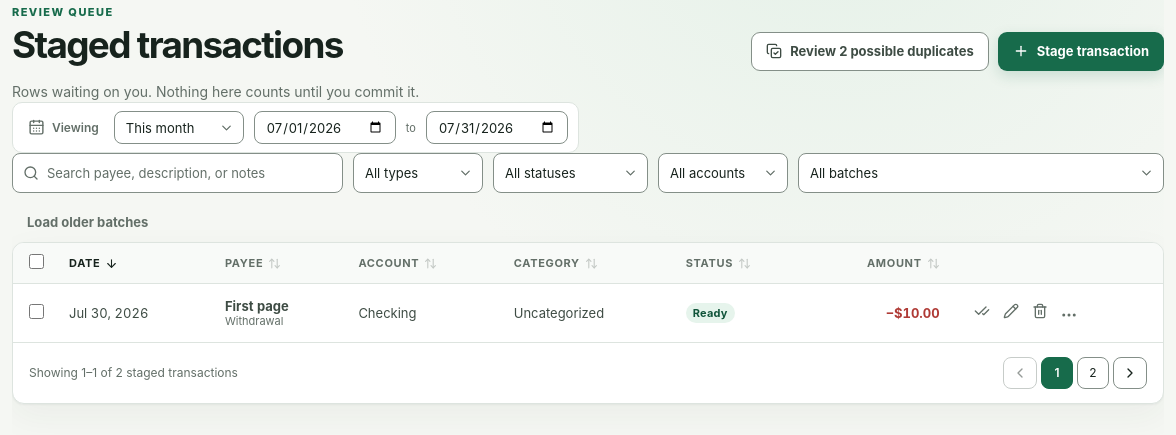
staged queue pagination › keeps initial requests and rendering bounded, then loads more on demand
Expected: the text "First page" is shown, x1=225 y1=298 x2=289 y2=314
Expected: the text "Second page" is not shown
Click the button "Load older batches" at (88, 223), box x1=12 y1=203 x2=163 y2=242
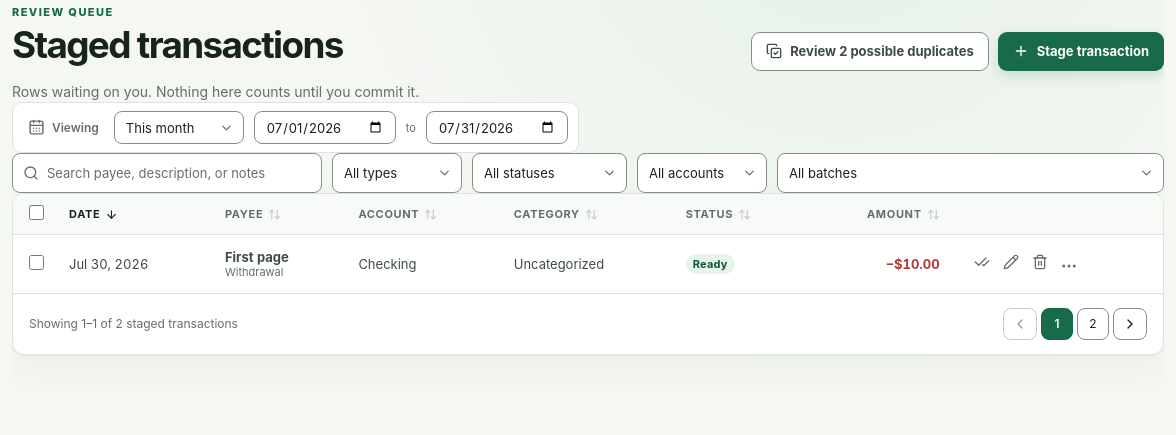
Click the button named "Page 2" at (1093, 324), box x1=1077 y1=308 x2=1109 y2=340
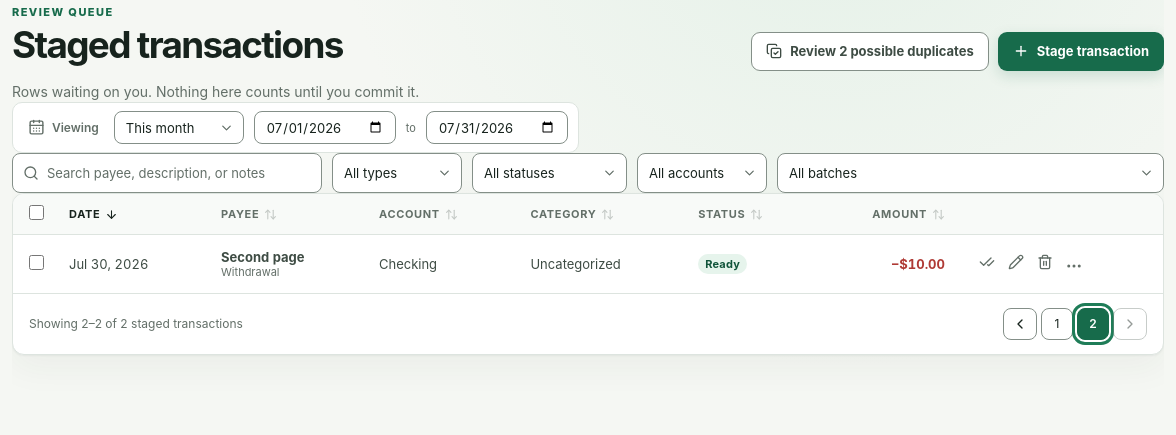
Now the text "Second page" is shown, box x1=221 y1=249 x2=304 y2=265
Now the button "First page" is gone
Click the checkbox named "Select all staged transactions on this page" at (36, 213), box x1=28 y1=205 x2=44 y2=220
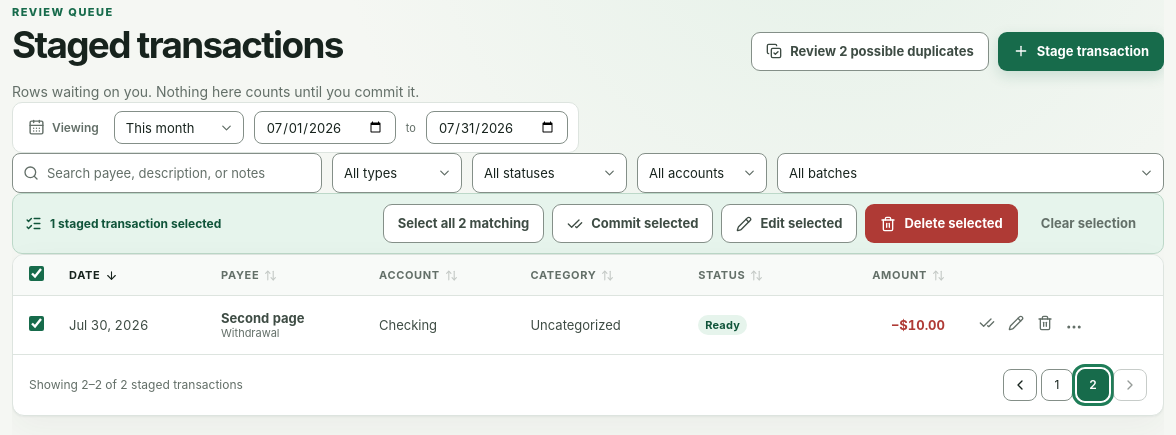
Now the text "1 staged transaction selected" is shown, box x1=50 y1=216 x2=221 y2=231
